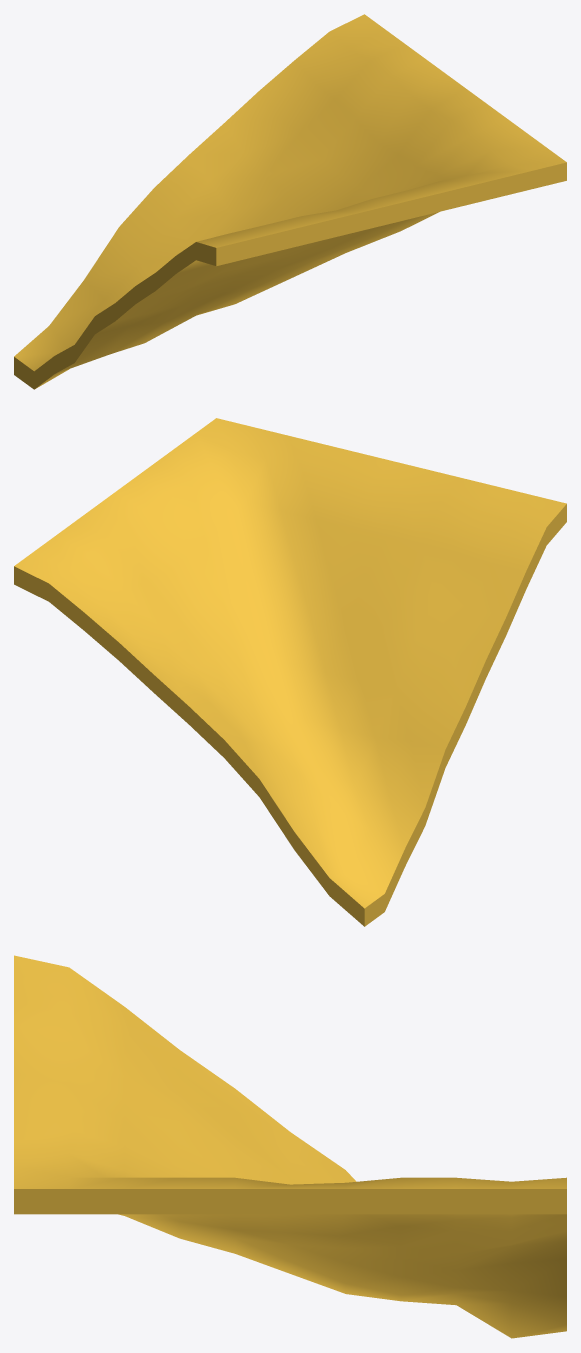
The model's file is Steil - Mitte - Ecke Invertiert b - a.fbx.
3 renders of one model, top to bottom at view 1: azimuth 30°, elevation 25°; view 2: azimuth 150°, elevation 25°; view 3: azimuth 270°, elevation 25°, orthographic. The views are drawn at different scales.
Visible parts, largest first — view 1: Steil - Mitte - Ecke Invertiert b - a; view 2: Steil - Mitte - Ecke Invertiert b - a; view 3: Steil - Mitte - Ecke Invertiert b - a.
Part boxes in pixels (x1,y1,x2,y2): Steil - Mitte - Ecke Invertiert b - a: (14,14,566,389); Steil - Mitte - Ecke Invertiert b - a: (14,418,566,926); Steil - Mitte - Ecke Invertiert b - a: (14,955,566,1338).
Size of the model in its own units: 394 by 295 by 394.
